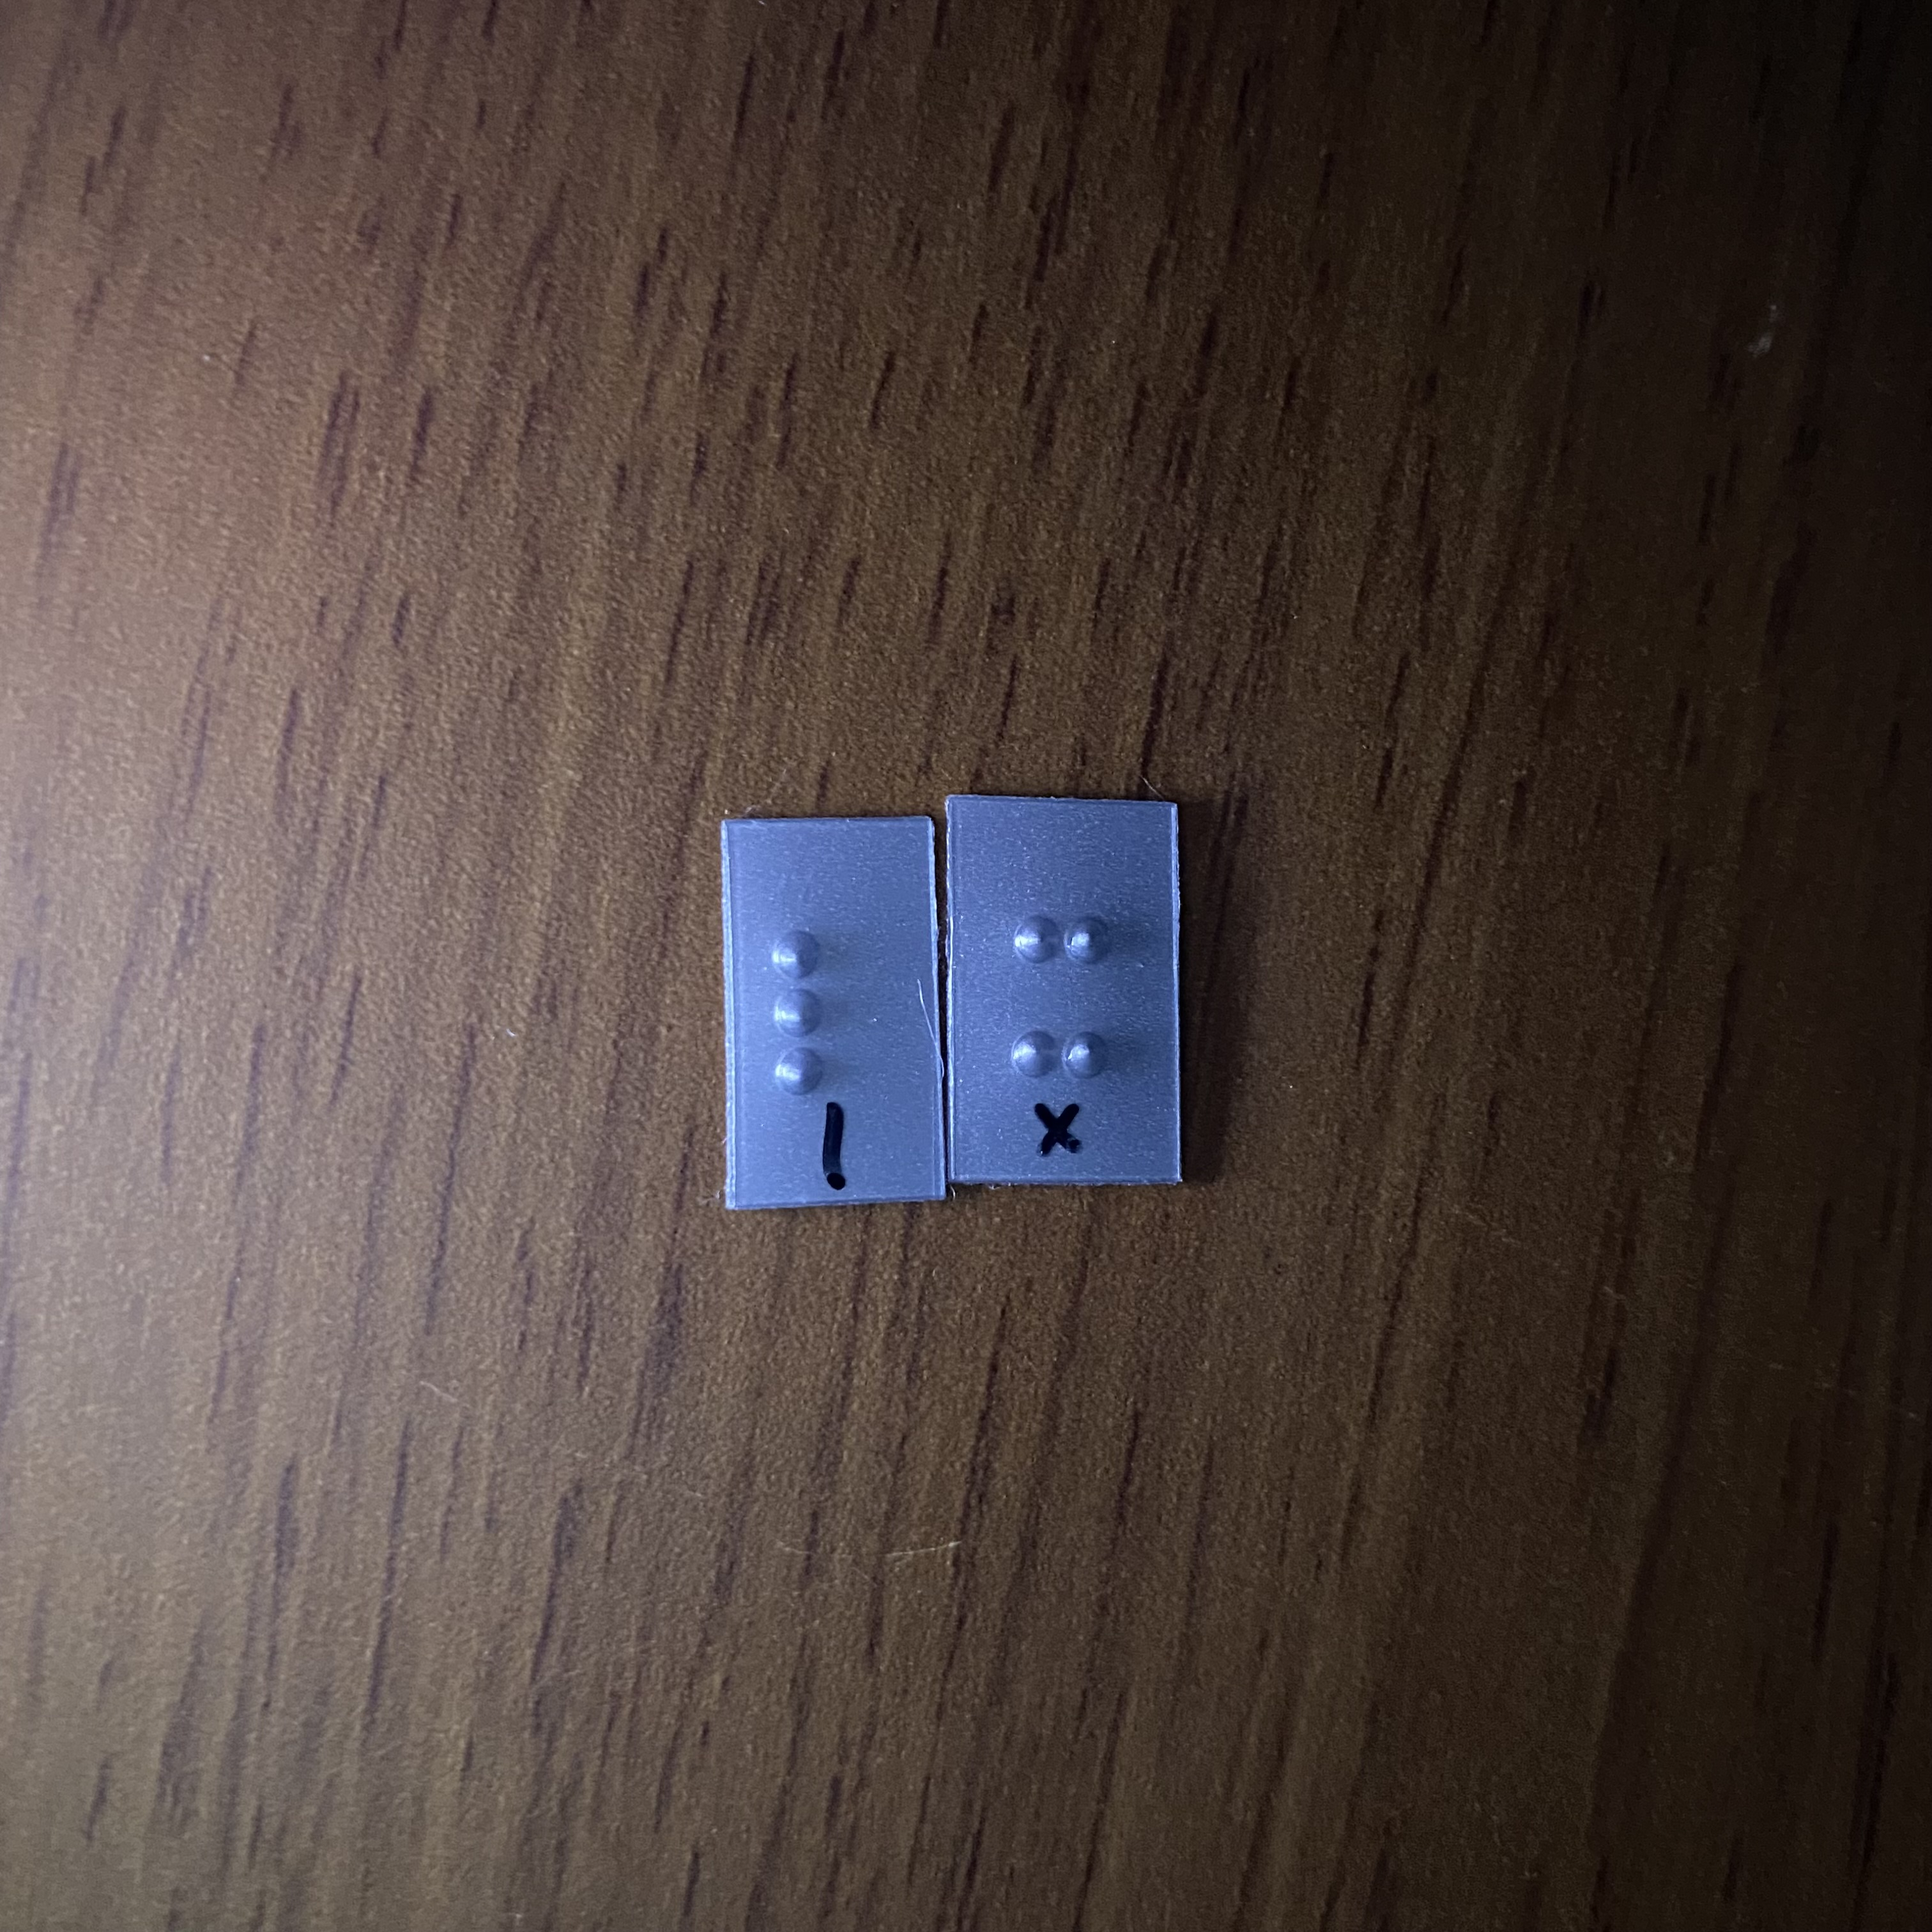l: (758, 916, 895, 1106)
x: (990, 887, 1131, 1092)
